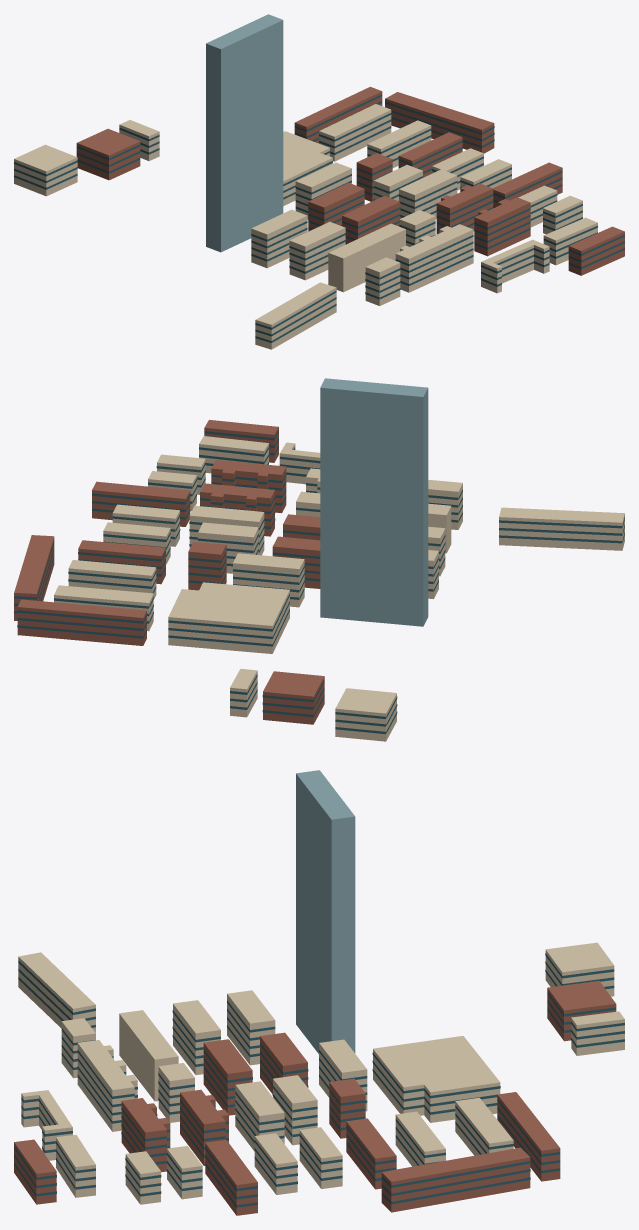
The model's file is city_7_0.glb.
3 renders of one model, top to bottom at view 1: azimuth 30°, elevation 25°; view 2: azimuth 150°, elevation 25°; view 3: azimuth 270°, elevation 25°, orthographic. The views are drawn at different scales.
Visible parts, largest first — view 1: city_7_0; view 2: city_7_0; view 3: city_7_0.
Part boxes in pixels (left/top/right/bottom): city_7_0: left=14, top=14, right=624, bottom=349; city_7_0: left=14, top=378, right=624, bottom=741; city_7_0: left=14, top=770, right=624, bottom=1215.
Bounding box in the file's own units: 254 × 122 × 270.
